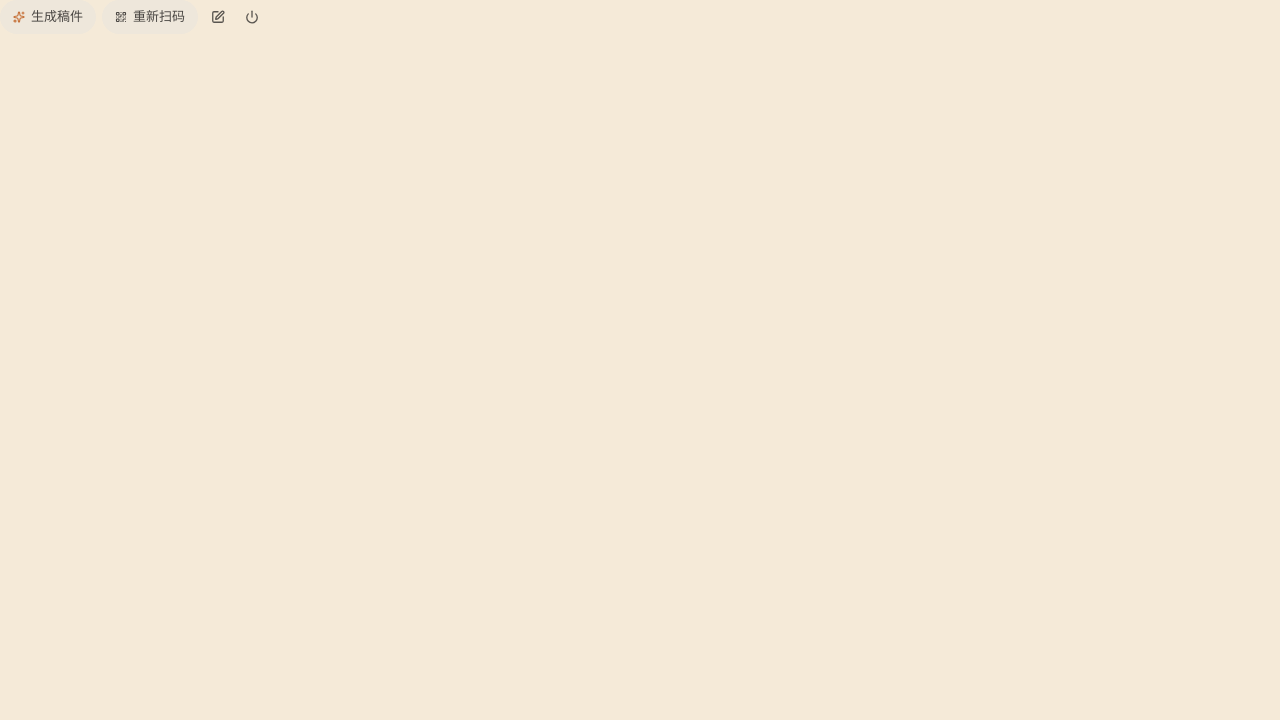
出稿弹层的配图控件（P14.B4：勾选框 + 张数选择器合并成一条 Segmented） › 开了配图却一张都没配上时，如实提示而不是假装成功
This screenshot has width=1280, height=720.
Step 1. Click the button with test id "generate-button" → (48, 17), box left=0, top=0, right=96, bottom=34
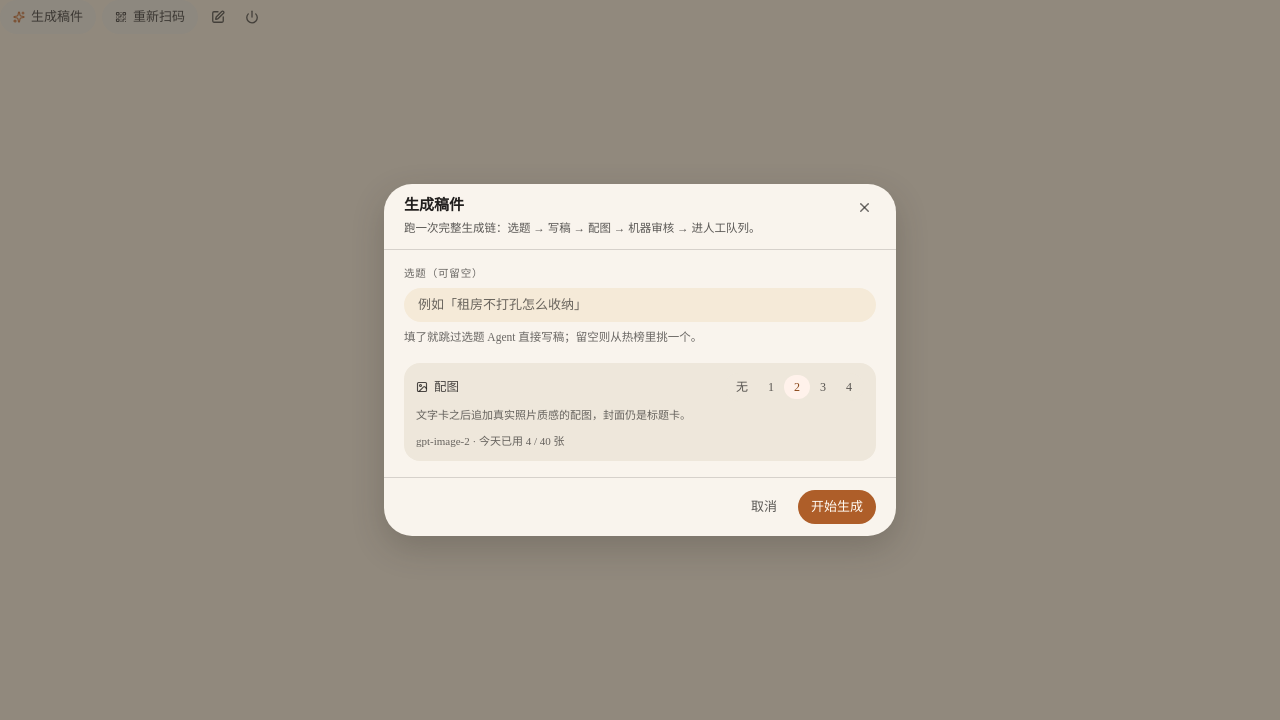
Result: the button with test id "generate-submit" is shown
Result: the element with test id "illustration-count" is shown at left=724, top=373, right=864, bottom=401
Result: the tab "2" is shown at left=784, top=375, right=810, bottom=399
Step 2. Click the button with test id "generate-submit" → (837, 507), box left=798, top=490, right=876, bottom=524
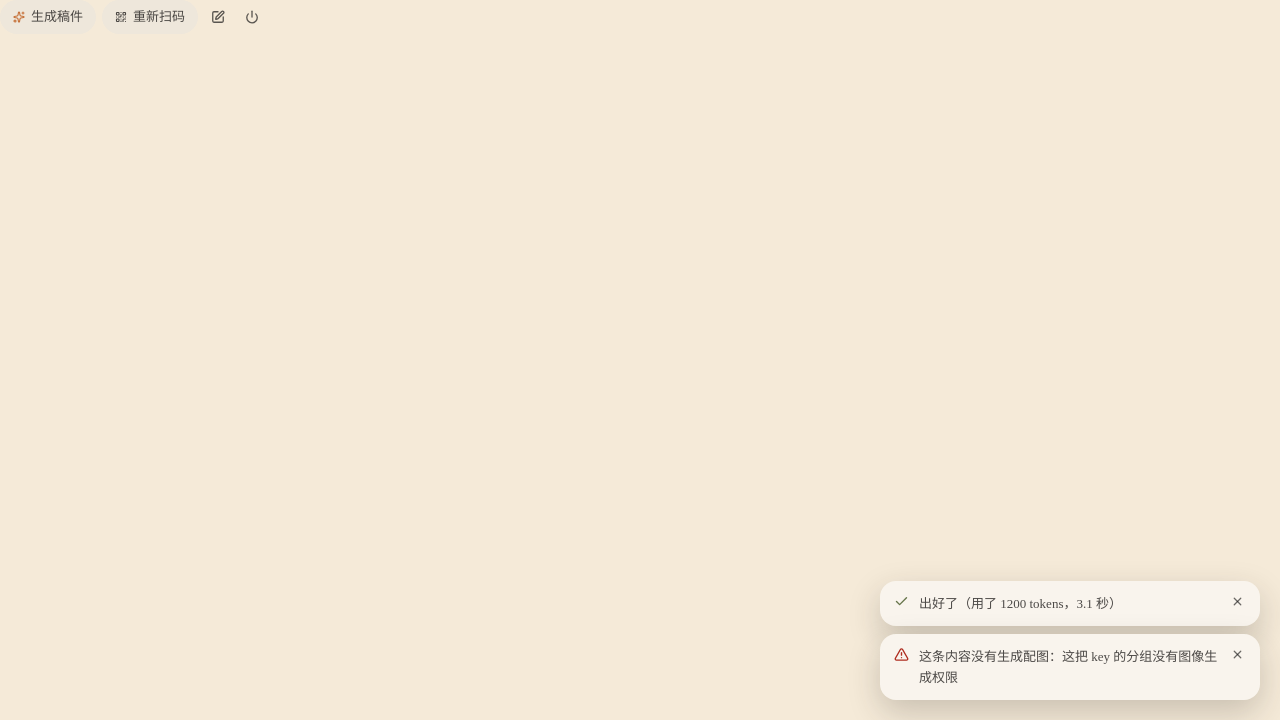
Result: the text "这条内容没有生成配图：这把 key 的分组没有图像生成权限" is shown at left=919, top=646, right=1219, bottom=688
